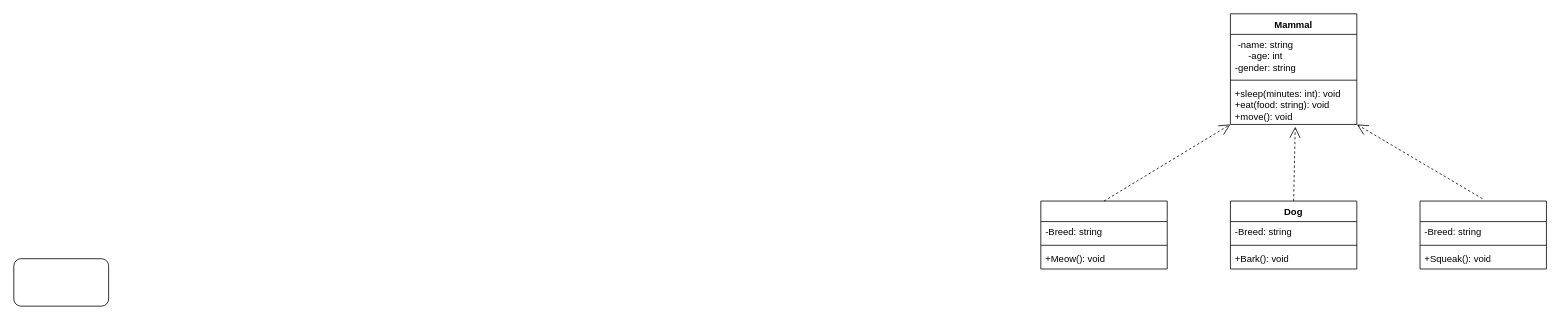
The diagram is 1560 pixels wide and 320 high, and some of its shapes have lost their labels. The shapes that lost their labels are listed below. From the top down, each one's box as (x1, y1, x2, y2) in pixels, then its label:
(1040, 200, 1167, 269): Cat
(1419, 200, 1546, 269): Dolphin
